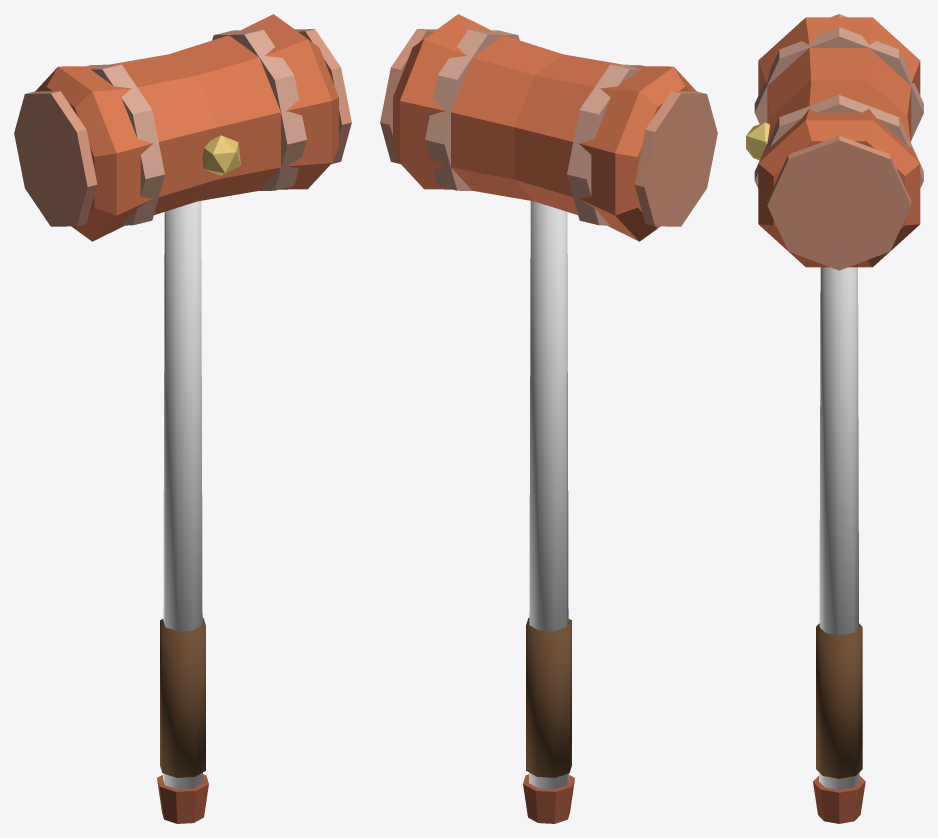
File: palladium_hammer.glb
3 views of the same model, side by side, from view 1: azimuth 30°, elevation 25°; view 2: azimuth 150°, elevation 25°; view 3: azimuth 270°, elevation 25° (orthographic). The views are drawn at different scales.
Parts seen in each view (by area): view 1: palladium_hammer_v0; view 2: palladium_hammer_v0; view 3: palladium_hammer_v0.
Boxes of the visible parts, bbox=[...] form: palladium_hammer_v0: bbox=[14, 14, 351, 823]; palladium_hammer_v0: bbox=[380, 14, 717, 823]; palladium_hammer_v0: bbox=[746, 14, 923, 823].
Bounding box in the file's own units: 0.324 × 0.8968 × 0.193.
